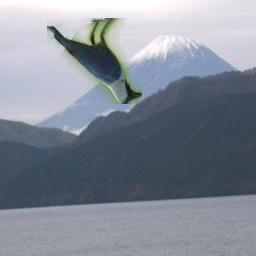Crow: (47, 18, 142, 104)
